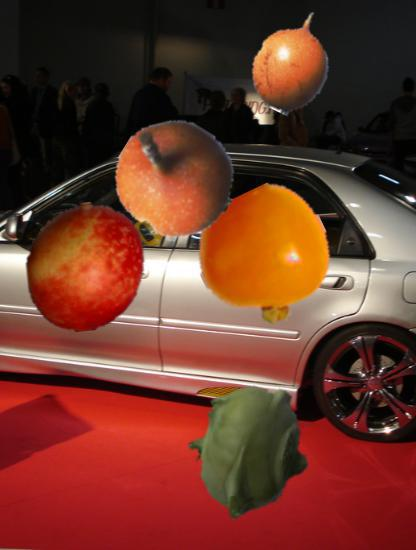Granadilla: (115, 119, 236, 240), (242, 8, 348, 114)
Kohlrabi: (178, 381, 320, 523)
Nectarine: (21, 203, 149, 331)
Physalis: (199, 191, 332, 324)
